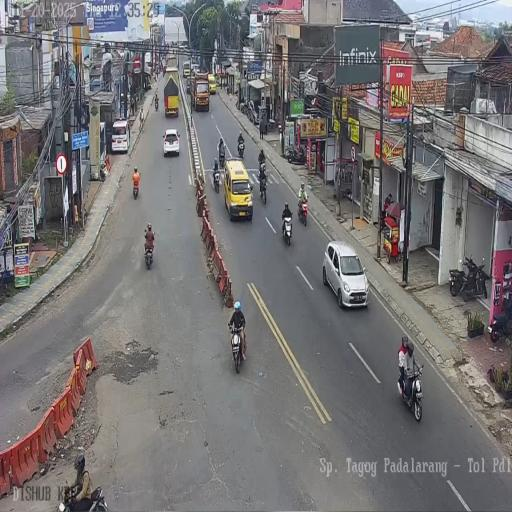car: (322, 242, 368, 310), (224, 158, 254, 221), (110, 118, 130, 154), (163, 128, 180, 157), (208, 73, 216, 95), (89, 78, 101, 91), (182, 61, 190, 79), (192, 66, 200, 78)
motorcycle: (398, 359, 424, 421), (459, 254, 488, 300), (488, 293, 512, 343), (229, 322, 246, 373), (285, 144, 306, 165), (297, 194, 308, 226), (144, 238, 154, 270), (282, 216, 292, 246), (258, 172, 267, 204), (212, 166, 220, 193), (218, 146, 226, 168), (132, 174, 139, 198), (237, 139, 245, 159), (240, 98, 247, 114), (154, 94, 159, 110), (235, 98, 239, 111), (163, 65, 166, 77), (160, 62, 162, 76)
truck: (163, 63, 180, 118), (191, 70, 210, 113), (186, 76, 192, 95)
